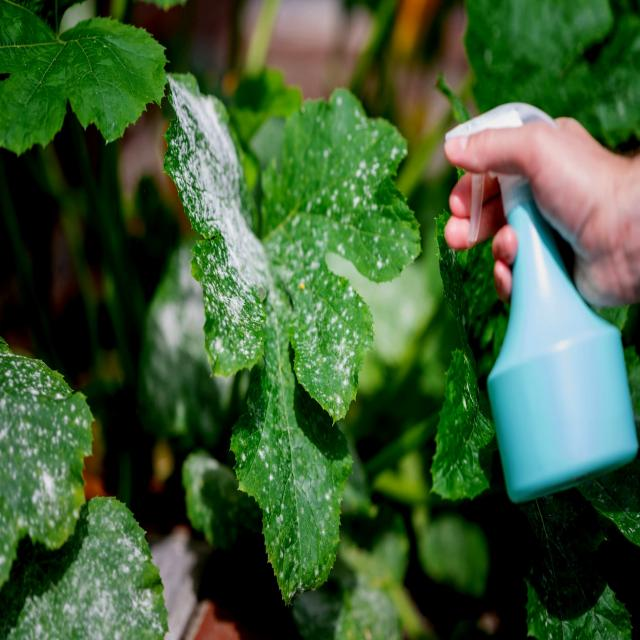Powdery Mildew: (161, 68, 423, 606), (162, 72, 272, 378), (6, 494, 170, 638), (0, 344, 95, 588)
